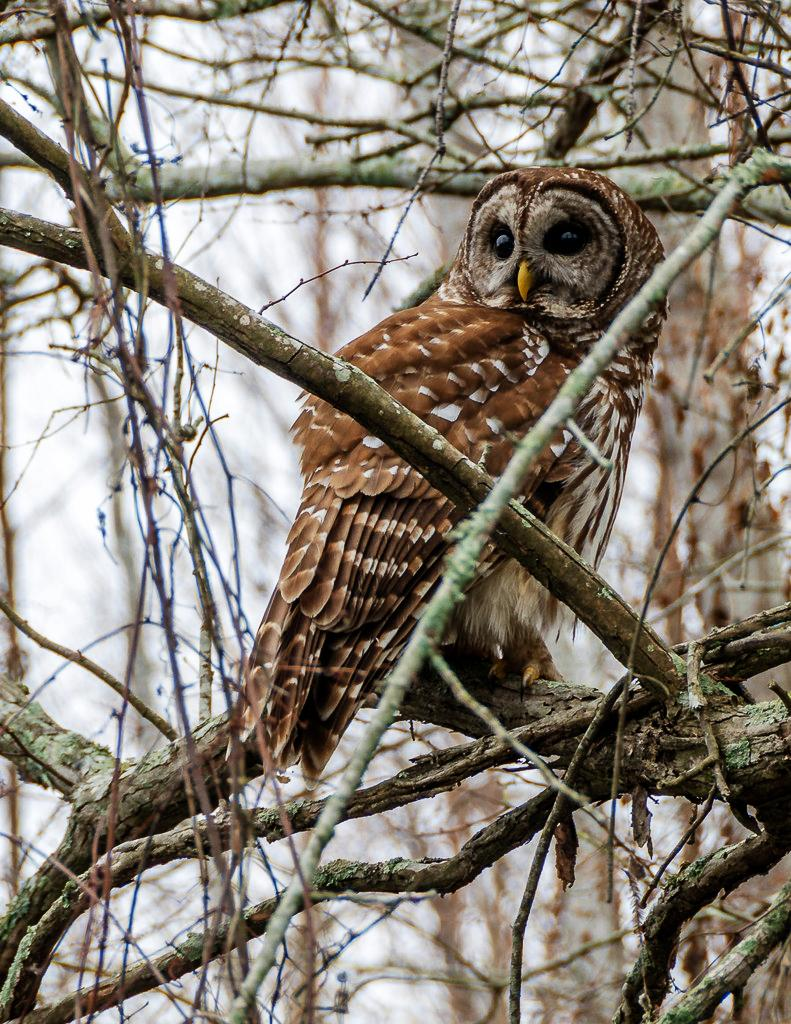Owl: (223, 166, 672, 788)
